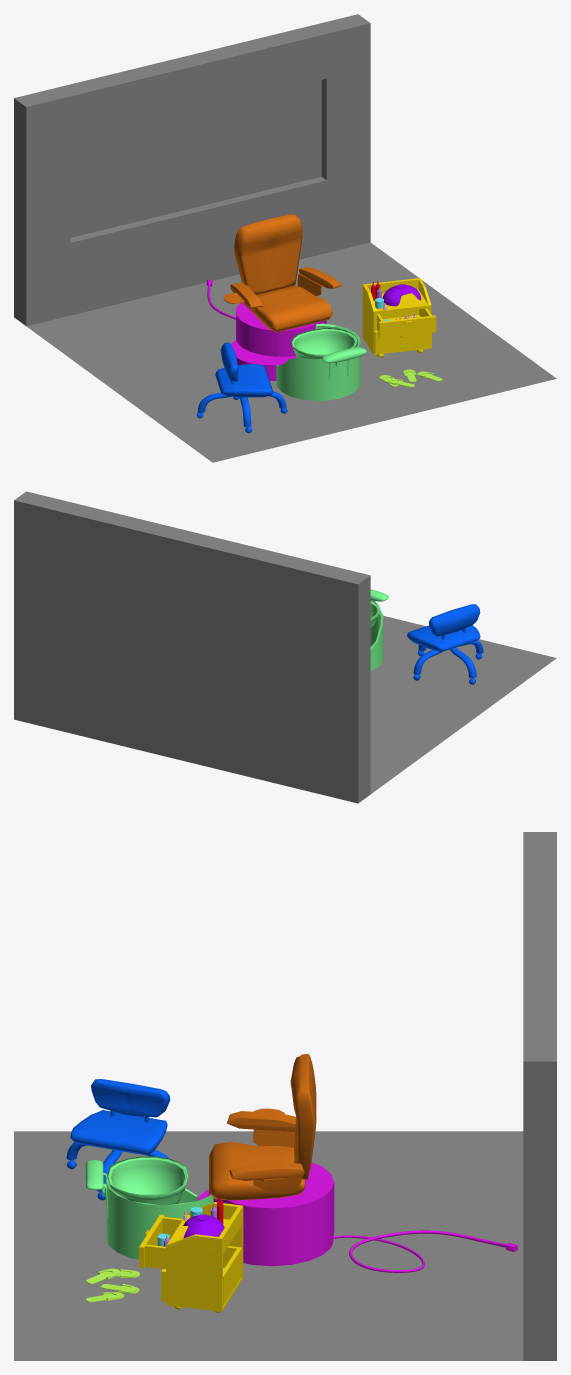
3 renders of one model, top to bottom at view 1: azimuth 30°, elevation 25°; view 2: azimuth 150°, elevation 25°; view 3: azimuth 270°, elevation 25°, orthographic. The views are drawn at different scales.
Visible parts, largest first — view 1: pPlane1, polySurface5, tech_cart2, polySurface10, polySurface33, clientchair_sitcushion, polySurface24, polySurface8, polySurface21, armrest3; view 2: pPlane1, polySurface24, polySurface21, polySurface10; view 3: pPlane1, tech_cart2, polySurface33, polySurface24, clientchair_sitcushion, polySurface8, polySurface10, polySurface5, polySurface32, armrest3, armrest1, pCylinder12 (+2 smaller).
Part boxes in pixels (box(x1,y1,x2,y2)): pPlane1: box(14, 14, 556, 462); polySurface5: box(234, 214, 302, 294); tech_cart2: box(362, 278, 436, 357); polySurface10: box(276, 323, 360, 400); polySurface33: box(231, 302, 326, 380); clientchair_sitcushion: box(253, 285, 332, 332); polySurface24: box(215, 342, 273, 397); polySurface8: box(291, 328, 357, 359); polySurface21: box(197, 382, 286, 427); armrest3: box(223, 282, 262, 308); pPlane1: box(14, 491, 556, 803); polySurface24: box(407, 604, 480, 651); polySurface21: box(413, 628, 483, 678); polySurface10: box(370, 610, 383, 670); pPlane1: box(14, 832, 556, 1360); tech_cart2: box(139, 1202, 243, 1312); polySurface33: box(197, 1162, 334, 1266); polySurface24: box(70, 1079, 170, 1155); clientchair_sitcushion: box(209, 1141, 305, 1200); polySurface8: box(107, 1156, 188, 1205); polySurface10: box(106, 1178, 213, 1259); polySurface5: box(290, 1054, 316, 1179); polySurface32: box(333, 1230, 518, 1272); armrest3: box(227, 1108, 295, 1132); armrest1: box(229, 1162, 304, 1180); pCylinder12: box(183, 1214, 224, 1238).
Bounding box in the file's own units: 3.95 × 2.4 × 3.95.
